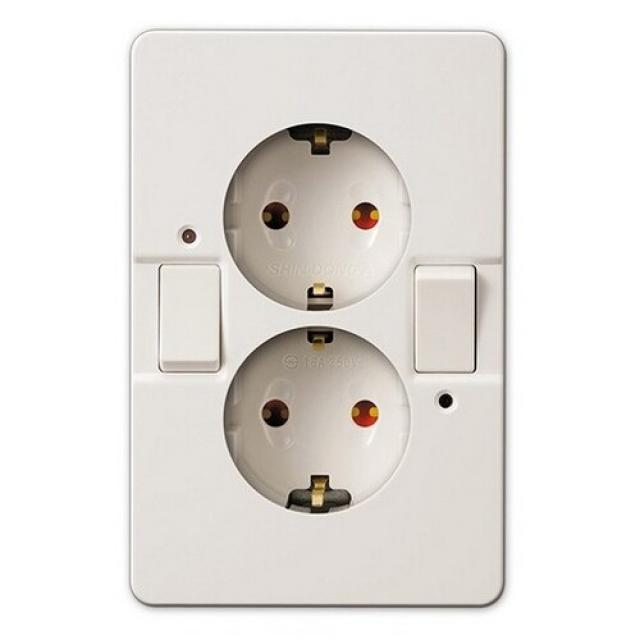typeb: (115, 18, 526, 624)
